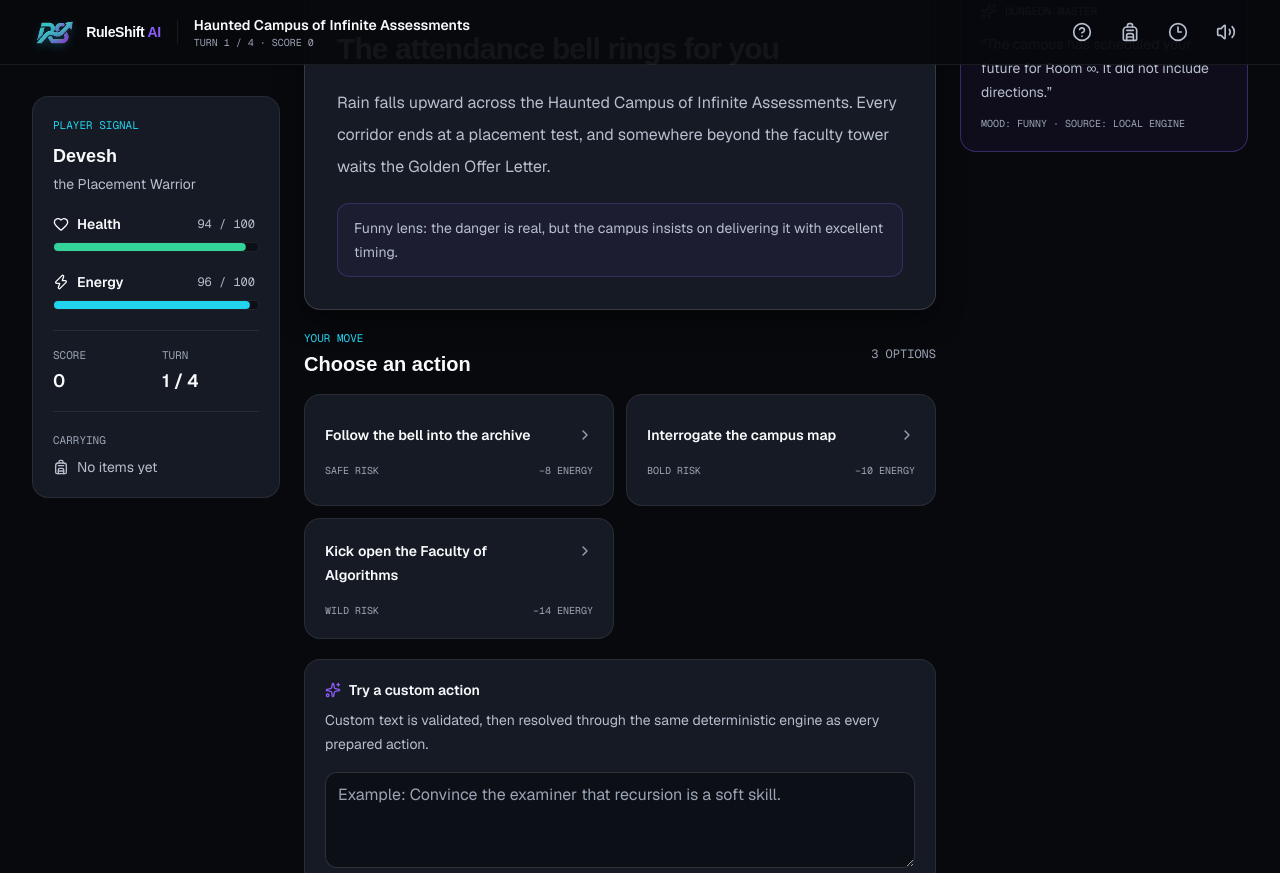
Test case: GameScreen › shows authoritative rule expiration feedback after duration reaches zero
The width and height of the screenshot is (1280, 873).
(page scrolled)
Click the button "Follow the bell into the archive SAFE RISK −8 ENERGY".
click(428, 434)  # box x1=304 y1=394 x2=614 y2=506
(page scrolled)
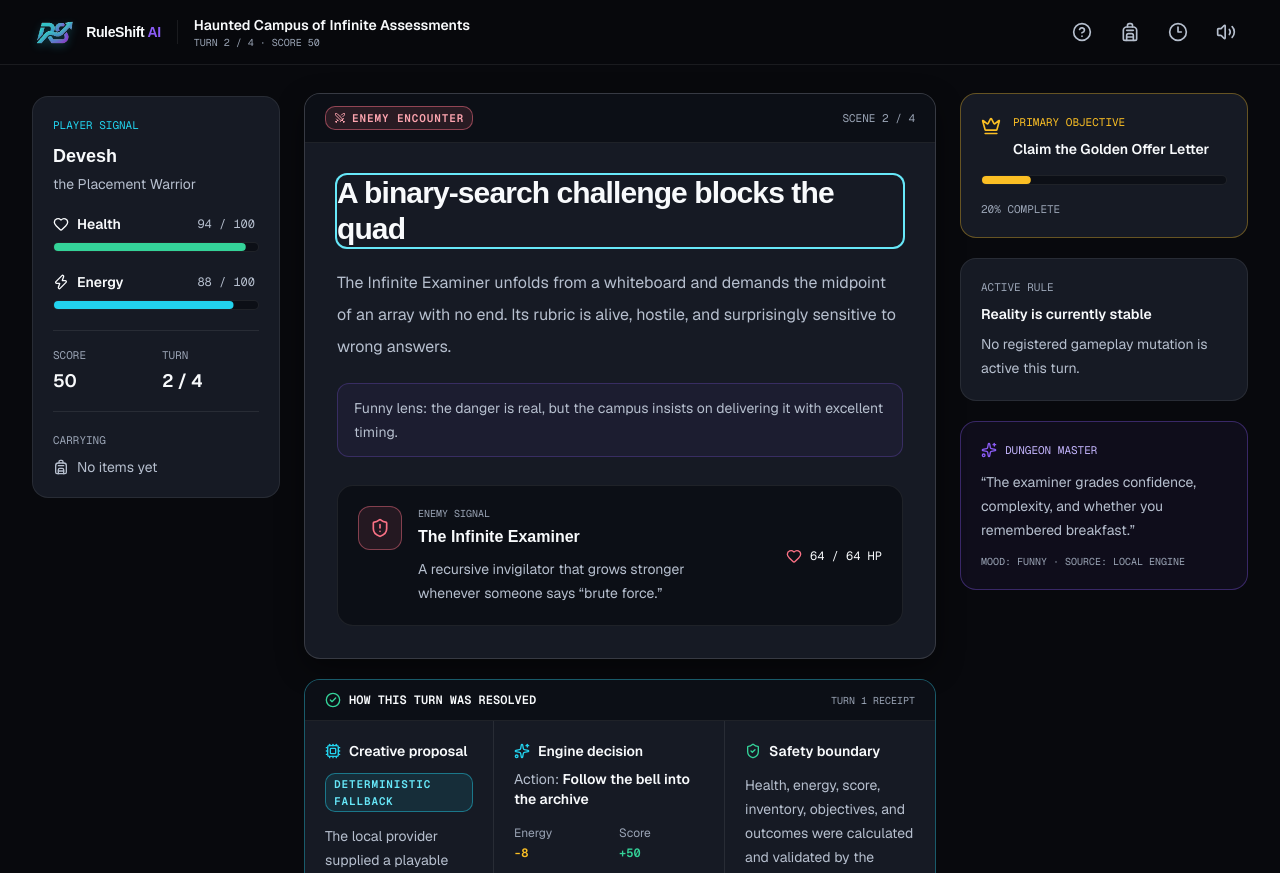
Result: the heading "Reality is currently stable" is shown at x1=981 y1=304 x2=1152 y2=322
